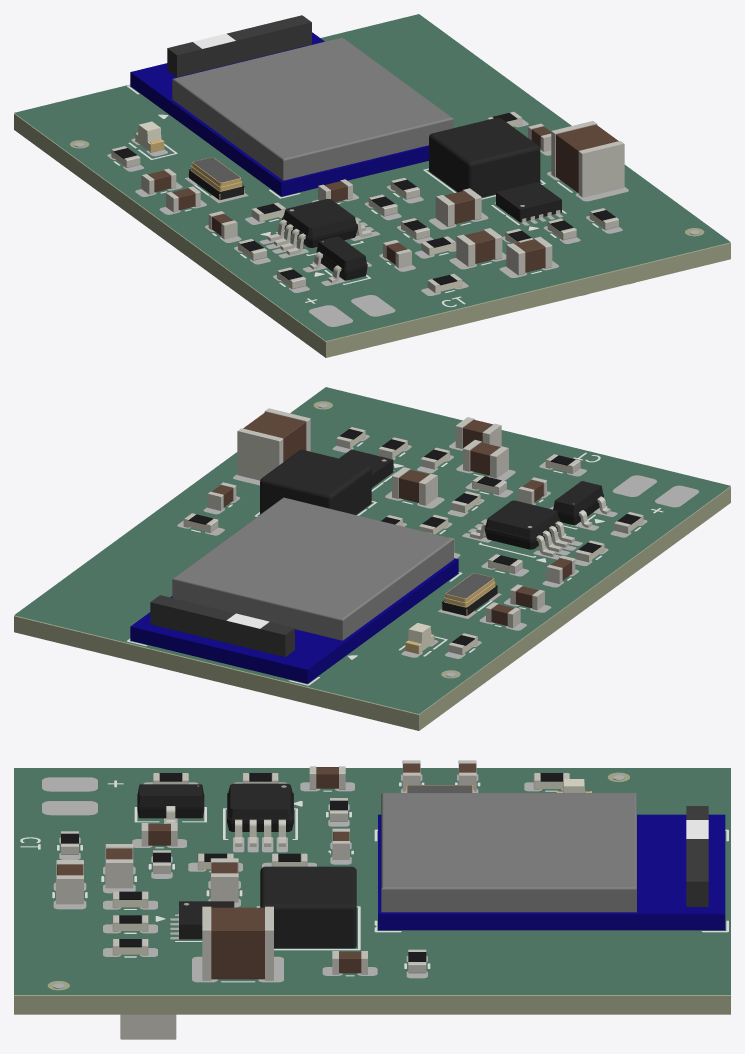
File: nami.glb
The picture shows the model from 3 angles, top to bottom: view 1: azimuth 30°, elevation 25°; view 2: azimuth 150°, elevation 25°; view 3: azimuth 270°, elevation 25°; orthographic projection. The views are drawn at different scales.
Visible parts, largest first — view 1: =>[0:1:1:39], =>[0:1:1:29], =>[0:1:1:41], =>[0:1:1:31], =>[0:1:1:36], =>[0:1:1:17], =>[0:1:1:13] (×3), =>[0:1:1:7], =>[0:1:1:3] (×5), =>[0:1:1:19], =>[0:1:1:11], =>[0:1:1:15] (+2 smaller); view 2: =>[0:1:1:39], =>[0:1:1:29], =>[0:1:1:41], =>[0:1:1:31], =>[0:1:1:36], =>[0:1:1:13] (×3), =>[0:1:1:17], =>[0:1:1:7], =>[0:1:1:3] (×5), =>[0:1:1:11], =>[0:1:1:15], =>[0:1:1:37] (+2 smaller); view 3: =>[0:1:1:39], =>[0:1:1:29], =>[0:1:1:41], =>[0:1:1:31], =>[0:1:1:17] (×2), =>[0:1:1:36], =>[0:1:1:3] (×6), =>[0:1:1:13] (×3), =>[0:1:1:7], =>[0:1:1:5] (×6), =>[0:1:1:11], =>[0:1:1:37] (+2 smaller).
Part boxes in pixels (x1,y1,x2,y2): =>[0:1:1:39]: (14,14,730,340); =>[0:1:1:29]: (130,15,453,196); =>[0:1:1:41]: (14,113,730,357); =>[0:1:1:31]: (429,117,540,197); =>[0:1:1:36]: (74,119,699,326); =>[0:1:1:17]: (551,121,624,197); =>[0:1:1:13] (×3): (435,188,552,275); =>[0:1:1:7]: (267,199,372,255); =>[0:1:1:3] (×5): (141,168,411,268); =>[0:1:1:19]: (496,182,561,222); =>[0:1:1:11]: (309,236,367,283); =>[0:1:1:15]: (188,157,244,200); =>[0:1:1:39]: (14,387,730,713); =>[0:1:1:29]: (130,497,458,683); =>[0:1:1:41]: (14,401,730,730); =>[0:1:1:31]: (260,449,371,514); =>[0:1:1:36]: (177,403,698,677); =>[0:1:1:13] (×3): (392,417,508,505); =>[0:1:1:17]: (237,408,310,480); =>[0:1:1:7]: (470,500,574,556); =>[0:1:1:3] (×5): (207,477,575,627); =>[0:1:1:11]: (553,481,610,527); =>[0:1:1:15]: (441,573,497,615); =>[0:1:1:37]: (127,442,663,685); =>[0:1:1:39]: (14,768,730,994); =>[0:1:1:29]: (378,793,725,930); =>[0:1:1:41]: (14,772,730,1014); =>[0:1:1:31]: (260,866,356,948); =>[0:1:1:17] (×2): (120,906,273,1039); =>[0:1:1:36]: (42,774,624,988); =>[0:1:1:3] (×6): (141,760,476,974); =>[0:1:1:13] (×3): (56,844,238,904); =>[0:1:1:7]: (227,783,293,846); =>[0:1:1:5] (×6): (112,773,569,973); =>[0:1:1:11]: (137,784,204,823); =>[0:1:1:37]: (20,780,728,982).
Bounding box in the file's own units: 0.024 × 0.00608 × 0.032.
